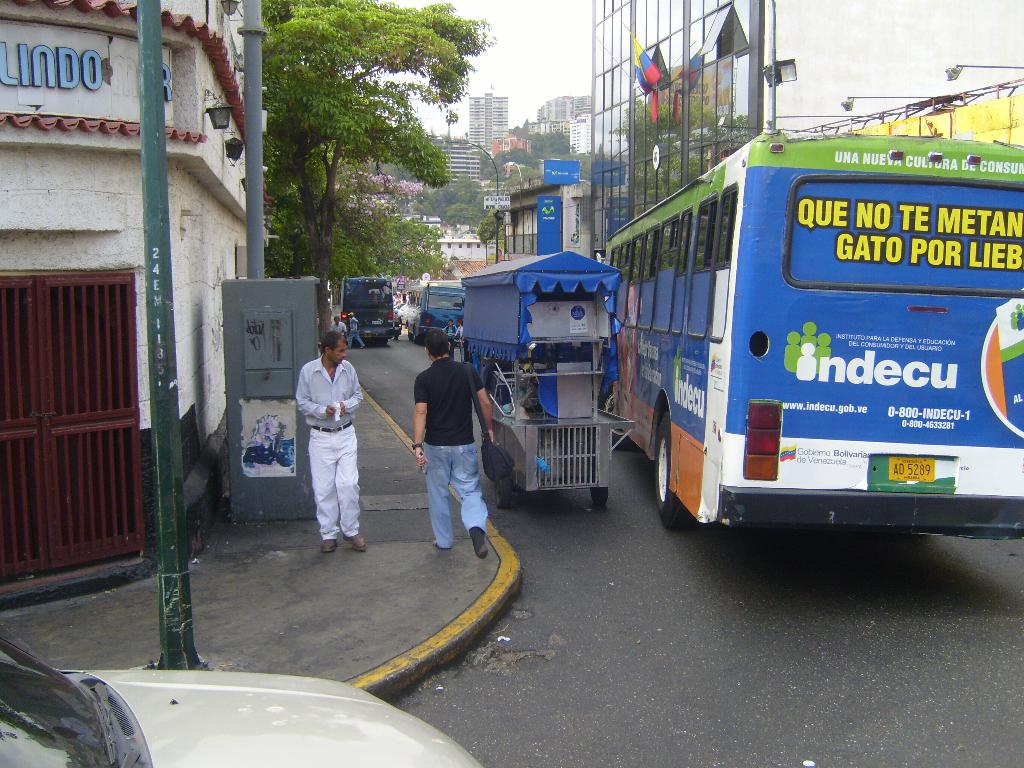Bus: (594, 130, 1022, 526), (397, 281, 466, 343), (341, 275, 401, 338)
